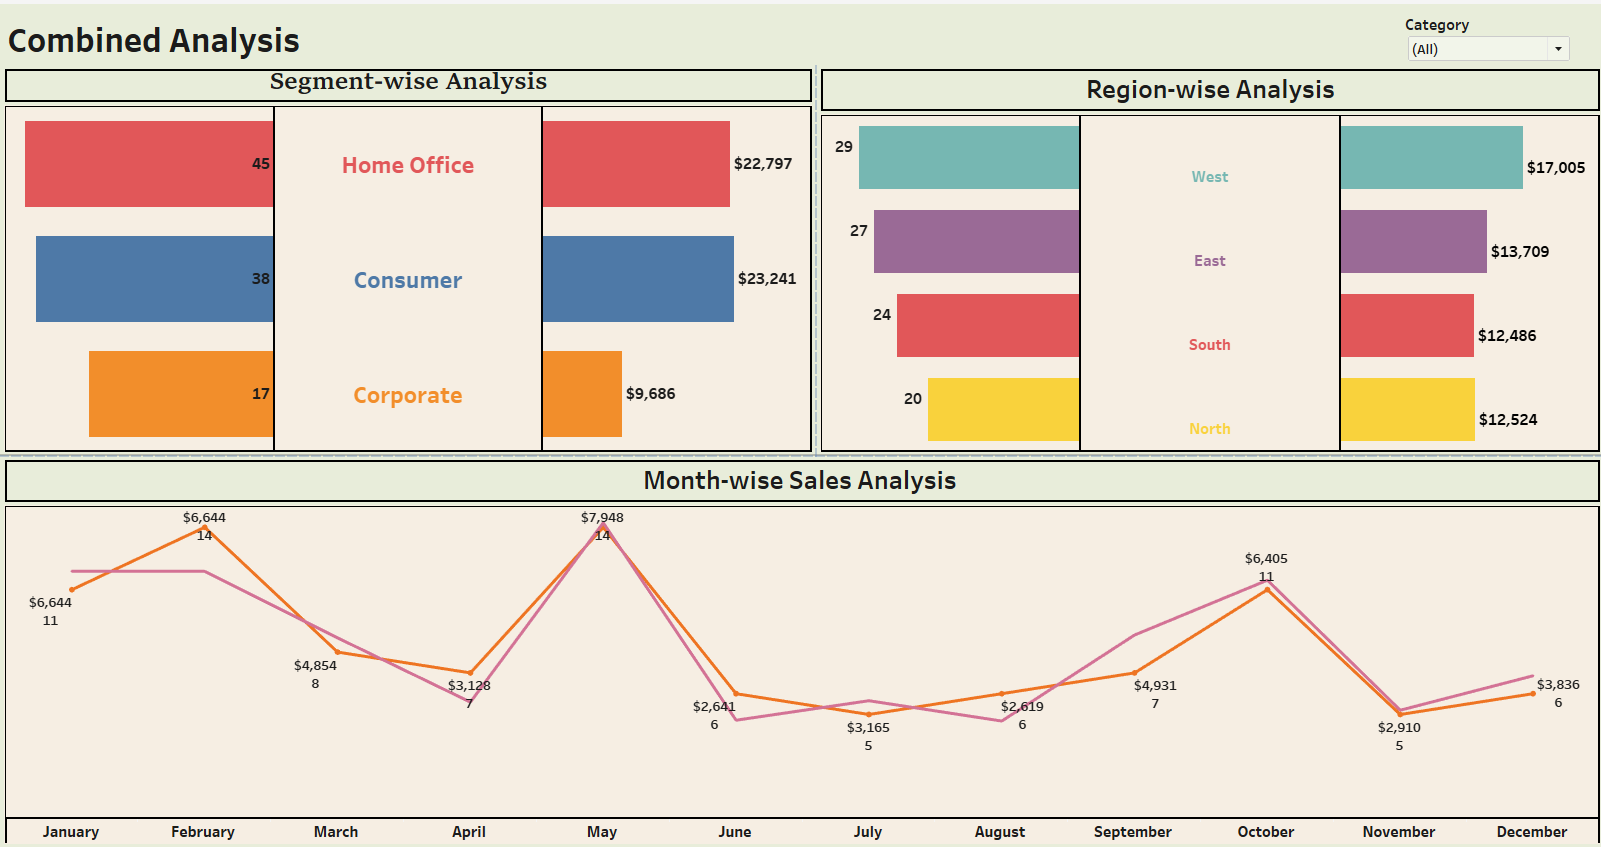

This screenshot's page, from the dashboard's own definition file:
{"tool":"tableau","page":{"name":"Combined Analysis","canvas":[1000,1000],"units":"permille","ordinal":0},"visuals":[{"type":"title","box":[4.9,9.6,990.1,63.8]},{"type":"filter","title":"Month-wise Sales Analysis ","param":"[federated.1e0u4ht0kt4j6x1ftj8en021s4zm].[none:category:nk]","box":[872.2,24.1,103.7,73.4]},{"type":"worksheet","title":"Segment-wise Analysis","mark":"Automatic","rows":["segment"],"cols":["order_id","Calculation_652177562406301702","sales_amount"],"box":[4.9,73.4,503.7,458.5]},{"type":"worksheet","title":"Region-wise Analysis","mark":"Automatic","rows":["region"],"cols":["order_id","Calculation_652177562574458889","sales_amount"],"box":[508.6,73.4,486.4,458.5]},{"type":"worksheet","title":"Month-wise Sales Analysis ","mark":"Automatic","rows":["order_id","sales_amount"],"cols":["order_date"],"box":[4.9,531.9,990.1,458.5]}]}

Visuals, with their boxes on the dashboard's canvas, which has no fixed pixel size, in thousandths of its width and height (x1, y1, x2, y2). These are canvas units, not pixel positions in the 1601x847 screenshot, which may show the page scaled, cropped or inside an application window:
title: [5,10,995,73]
"Month-wise Sales Analysis " filter: [872,24,976,98]
"Segment-wise Analysis" worksheet: [5,73,509,532]
"Region-wise Analysis" worksheet: [509,73,995,532]
"Month-wise Sales Analysis " worksheet: [5,532,995,990]
